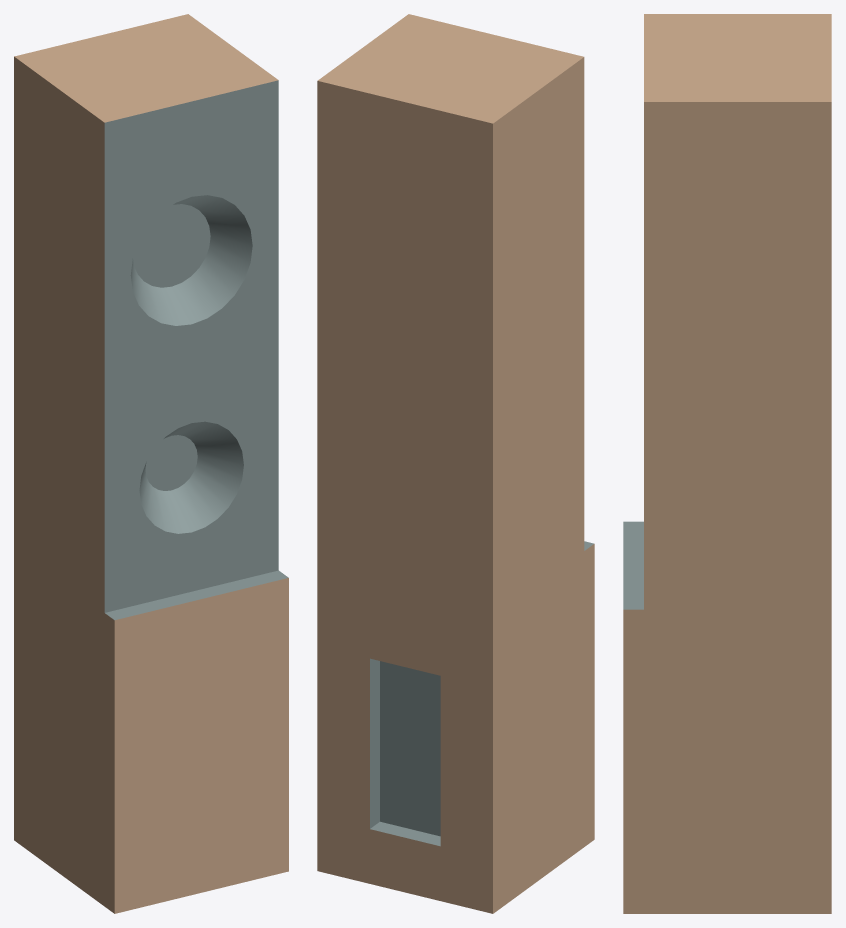
Rendered from speaker.glb.
3 views of the same model, side by side, from view 1: azimuth 30°, elevation 25°; view 2: azimuth 150°, elevation 25°; view 3: azimuth 270°, elevation 25° (orthographic). The views are drawn at different scales.
Visible parts, largest first — view 1: speaker; view 2: speaker; view 3: speaker.
Part boxes in pixels (left/top/right/bottom): speaker: left=14, top=14, right=288, bottom=913; speaker: left=317, top=14, right=594, bottom=913; speaker: left=623, top=14, right=831, bottom=913.
Size of the model in its own units: 0.148 by 0.6364 by 0.148.
